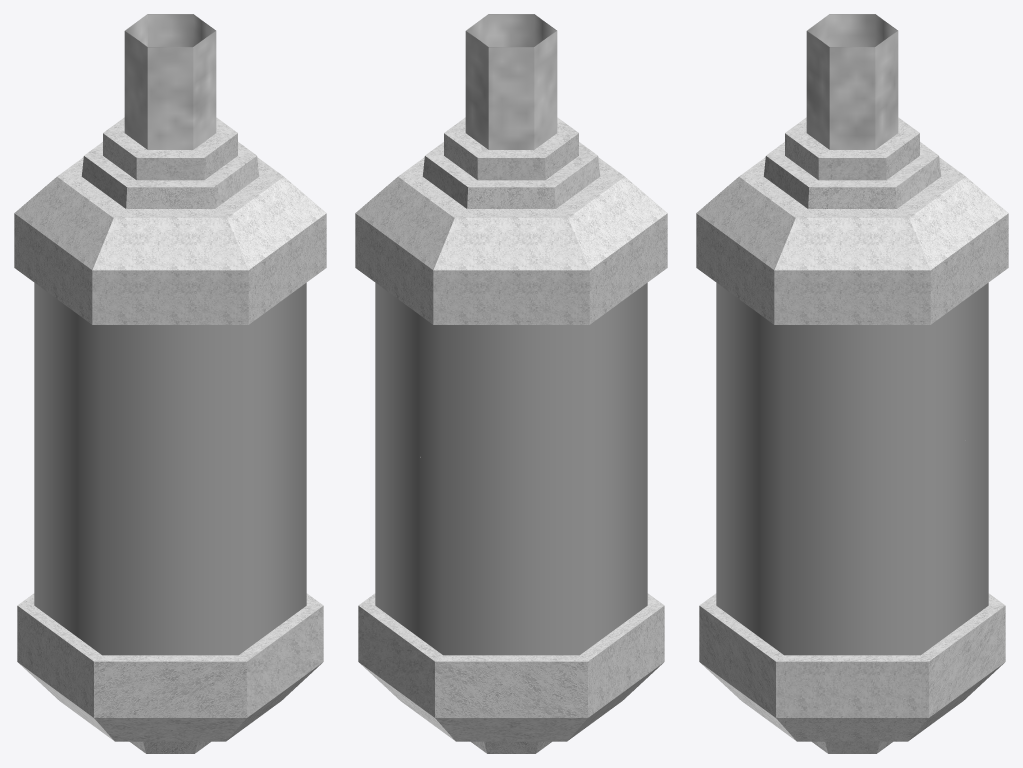
3 views of the same model, side by side, from view 1: azimuth 30°, elevation 25°; view 2: azimuth 150°, elevation 25°; view 3: azimuth 270°, elevation 25° (orthographic).
Parts seen in each view (by area): view 1: Mesh_Nutrient_9_sep20-0, Mesh_Nutrient_9_sep24-0, Mesh_Nutrient_9_sep25-0, Mesh_Nutrient_9_sep23-0, Mesh_Nutrient_9_sep21-0; view 2: Mesh_Nutrient_9_sep20-0, Mesh_Nutrient_9_sep24-0, Mesh_Nutrient_9_sep25-0, Mesh_Nutrient_9_sep23-0, Mesh_Nutrient_9_sep21-0; view 3: Mesh_Nutrient_9_sep20-0, Mesh_Nutrient_9_sep24-0, Mesh_Nutrient_9_sep25-0, Mesh_Nutrient_9_sep23-0, Mesh_Nutrient_9_sep21-0.
Boxes of the visible parts, box(x1,y1,x2,y2) form: Mesh_Nutrient_9_sep20-0: box(34, 283, 306, 655); Mesh_Nutrient_9_sep24-0: box(14, 117, 326, 324); Mesh_Nutrient_9_sep25-0: box(17, 593, 323, 753); Mesh_Nutrient_9_sep23-0: box(124, 14, 216, 149); Mesh_Nutrient_9_sep21-0: box(125, 14, 215, 47); Mesh_Nutrient_9_sep20-0: box(375, 283, 647, 655); Mesh_Nutrient_9_sep24-0: box(355, 117, 667, 324); Mesh_Nutrient_9_sep25-0: box(358, 593, 664, 753); Mesh_Nutrient_9_sep23-0: box(465, 14, 557, 149); Mesh_Nutrient_9_sep21-0: box(466, 14, 556, 47); Mesh_Nutrient_9_sep20-0: box(716, 283, 988, 655); Mesh_Nutrient_9_sep24-0: box(696, 117, 1008, 324); Mesh_Nutrient_9_sep25-0: box(699, 593, 1005, 753); Mesh_Nutrient_9_sep23-0: box(806, 14, 898, 149); Mesh_Nutrient_9_sep21-0: box(807, 14, 897, 47).
Bounding box in the file's own units: 6.14 × 17.66 × 7.09.
2 materials, 1 textured.
